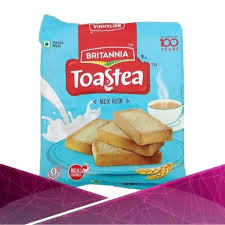Britania-toast-small: (39, 10, 187, 192)
